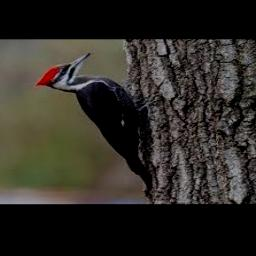Woodpecker: (34, 52, 157, 195)
